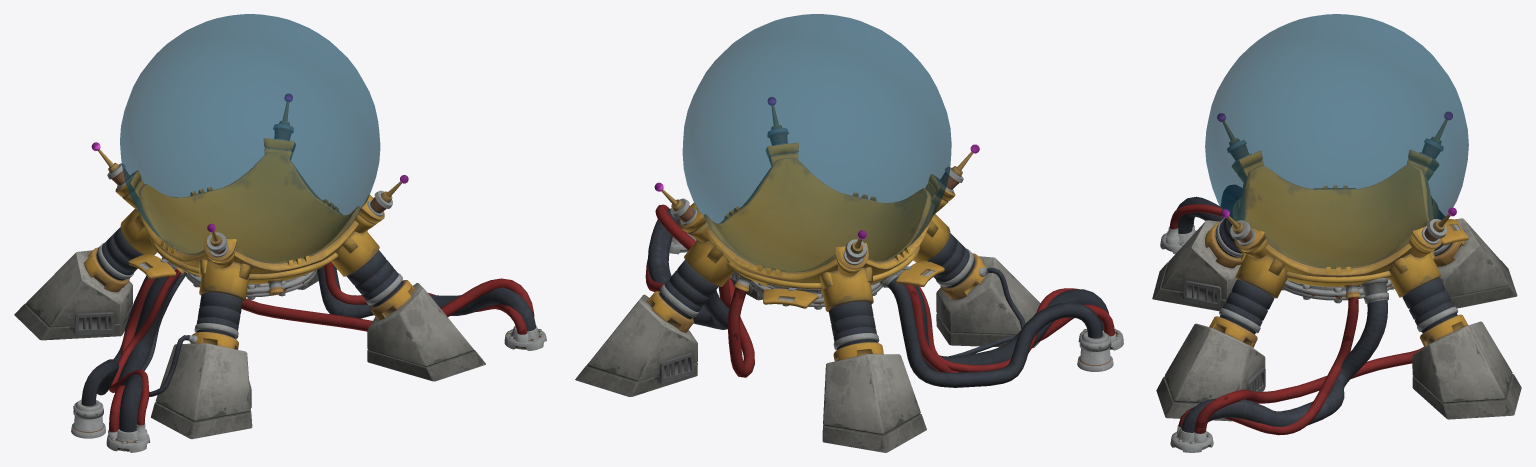
File: device.glb
The picture shows the model from 3 angles, left to right: view 1: azimuth 30°, elevation 25°; view 2: azimuth 150°, elevation 25°; view 3: azimuth 270°, elevation 25°; orthographic projection. The views are drawn at different scales.
Visible parts, largest first — view 1: S_DoomsdayDevice_BP12.mo.001, S_DoomsdayDevice_BP12.mo.002, S_DoomsdayDevice_BP12.mo.003, S_DoomsdayDevice_BP12.mo, S_DoomsdayDevice_BP12.mo.004_MI_Doomsday_Device_BP12_Small_P; view 2: S_DoomsdayDevice_BP12.mo.001, S_DoomsdayDevice_BP12.mo.002, S_DoomsdayDevice_BP12.mo.003, S_DoomsdayDevice_BP12.mo, S_DoomsdayDevice_BP12.mo.004_MI_Doomsday_Device_BP12_Small_P; view 3: S_DoomsdayDevice_BP12.mo.001, S_DoomsdayDevice_BP12.mo.002, S_DoomsdayDevice_BP12.mo.003, S_DoomsdayDevice_BP12.mo, S_DoomsdayDevice_BP12.mo.004_MI_Doomsday_Device_BP12_Small_P.
Part boxes in pixels (<box>): S_DoomsdayDevice_BP12.mo.001: <box>120,14,380,263</box>; S_DoomsdayDevice_BP12.mo.002: <box>14,209,485,439</box>; S_DoomsdayDevice_BP12.mo.003: <box>136,152,360,299</box>; S_DoomsdayDevice_BP12.mo: <box>81,262,535,432</box>; S_DoomsdayDevice_BP12.mo.004_MI_Doomsday_Device_BP12_Small_P: <box>71,94,546,452</box>; S_DoomsdayDevice_BP12.mo.001: <box>682,14,951,272</box>; S_DoomsdayDevice_BP12.mo.002: <box>575,214,1040,452</box>; S_DoomsdayDevice_BP12.mo.003: <box>704,132,980,309</box>; S_DoomsdayDevice_BP12.mo: <box>645,204,1114,387</box>; S_DoomsdayDevice_BP12.mo.004_MI_Doomsday_Device_BP12_Small_P: <box>654,97,1123,383</box>; S_DoomsdayDevice_BP12.mo.001: <box>1205,14,1468,268</box>; S_DoomsdayDevice_BP12.mo.002: <box>1152,196,1521,421</box>; S_DoomsdayDevice_BP12.mo.003: <box>1238,164,1434,303</box>; S_DoomsdayDevice_BP12.mo: <box>1169,185,1424,435</box>; S_DoomsdayDevice_BP12.mo.004_MI_Doomsday_Device_BP12_Small_P: <box>1160,112,1468,452</box>.
Size of the model in its own units: 11.77 by 7.93 by 8.23.
Materials: 5 (4 with a texture image).
